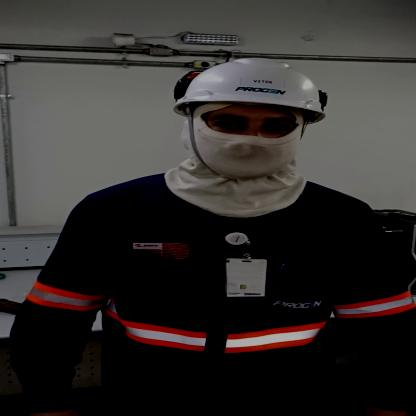Balaclava: (155, 104, 311, 216)
Capacete: (166, 56, 344, 119)
